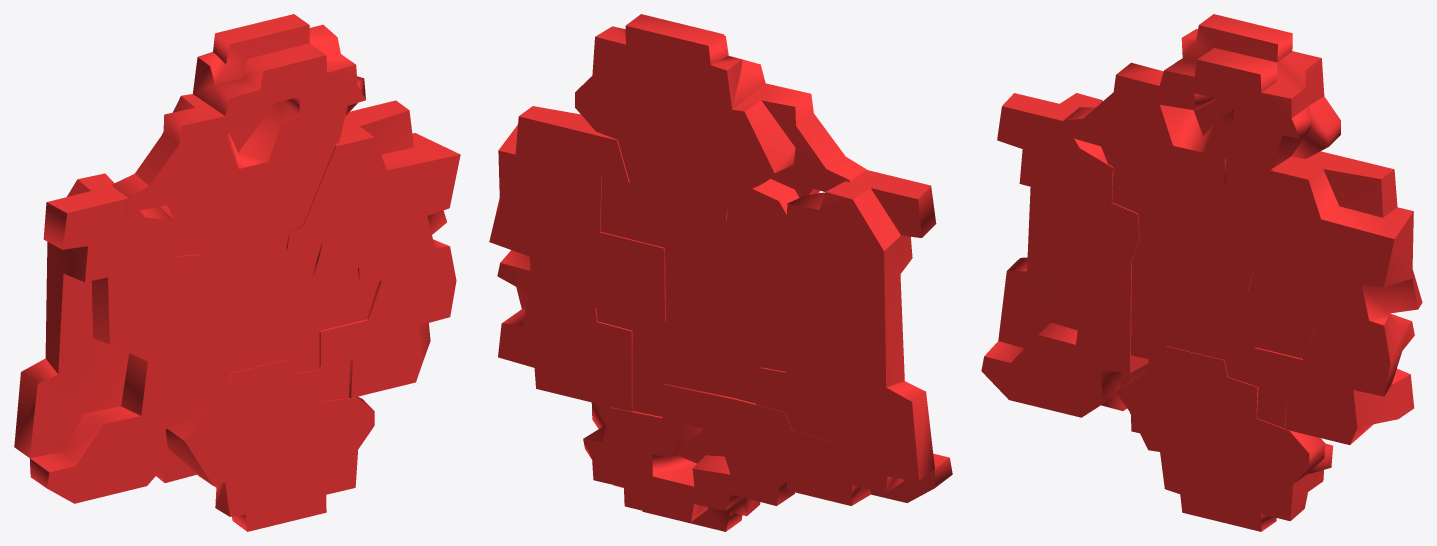
The model's file is DBK_Brick_Prop_Mid_A.fbx.
3 views of the same model, side by side, from view 1: azimuth 30°, elevation 25°; view 2: azimuth 150°, elevation 25°; view 3: azimuth 330°, elevation 25° (orthographic). The views are drawn at different scales.
Parts seen in each view (by area): view 1: DBK_Brick_Prop_Mid_A; view 2: DBK_Brick_Prop_Mid_A; view 3: DBK_Brick_Prop_Mid_A.
Boxes of the visible parts, box(x1,y1,x2,y2) form: DBK_Brick_Prop_Mid_A: box(14, 14, 460, 531); DBK_Brick_Prop_Mid_A: box(489, 14, 952, 531); DBK_Brick_Prop_Mid_A: box(981, 14, 1422, 531).
Bounding box in the file's own units: 150 × 162 × 20.22.
